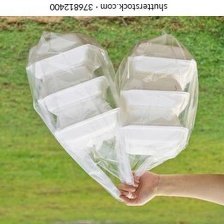foam_box: (23, 29, 108, 88), (34, 61, 116, 118), (50, 92, 124, 148), (122, 39, 198, 91), (116, 106, 190, 159), (114, 73, 194, 119)
plastic_bag: (21, 23, 144, 205), (115, 27, 199, 201)
